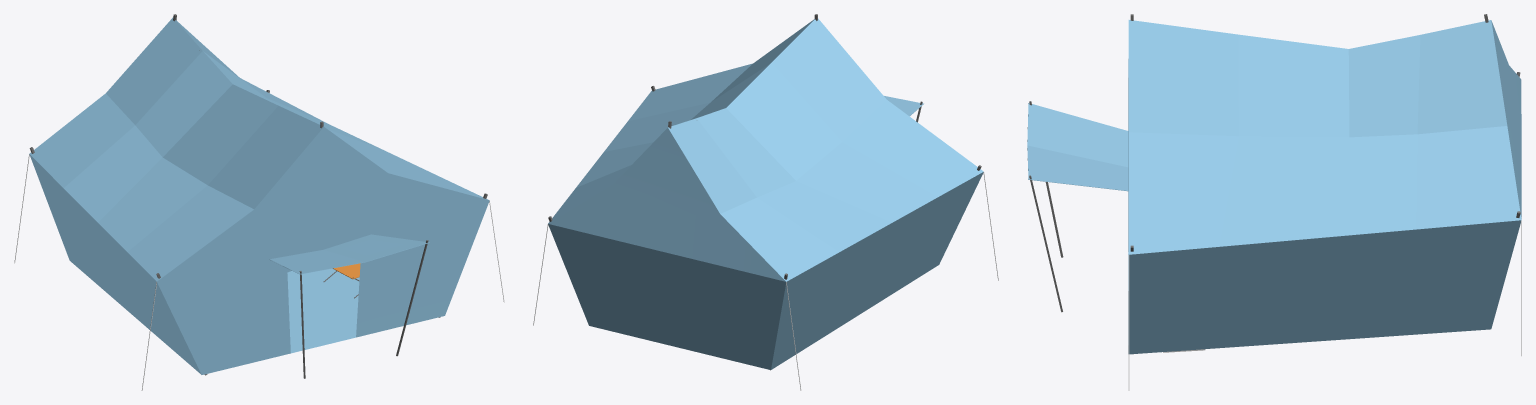
Rendered from sanitдszelt_06.fbx.
The picture shows the model from 3 angles, left to right: view 1: azimuth 30°, elevation 25°; view 2: azimuth 150°, elevation 25°; view 3: azimuth 270°, elevation 25°; orthographic projection. The views are drawn at different scales.
Visible parts, largest first — view 1: dach, Würfel_10_2, Deckfläche_2_3, vordach; view 2: dach, Würfel_10_2, Deckfläche_1_3; view 3: dach, Würfel_10_2, vordach, Deckfläche_1_3.
Boxes of the visible parts, x1,y1,x2,y2 form: dach: [29, 17, 488, 281]; Würfel_10_2: [29, 154, 489, 374]; Deckfläche_2_3: [157, 127, 488, 281]; vordach: [269, 234, 429, 274]; dach: [548, 18, 983, 281]; Würfel_10_2: [548, 172, 983, 369]; Deckfläche_1_3: [548, 128, 785, 281]; dach: [1128, 20, 1521, 254]; Würfel_10_2: [1128, 60, 1520, 354]; vordach: [1027, 103, 1128, 191]; Deckfläche_1_3: [1491, 20, 1521, 218].
Bounding box in the file's own units: 835 × 494 × 817.
